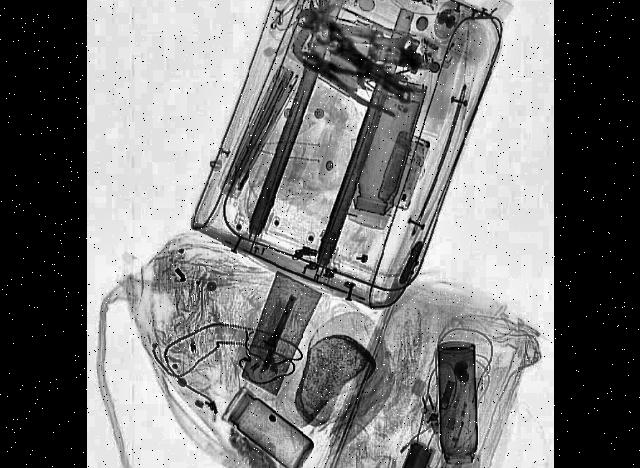Pliers: (298, 32, 400, 124)
Wrench: (314, 11, 414, 113)
